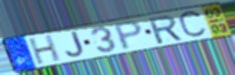3: (89, 26, 118, 54)
C: (177, 8, 209, 41)
H: (28, 33, 63, 66)
J: (64, 30, 86, 58)
P: (113, 20, 145, 52)
R: (146, 14, 186, 45)
